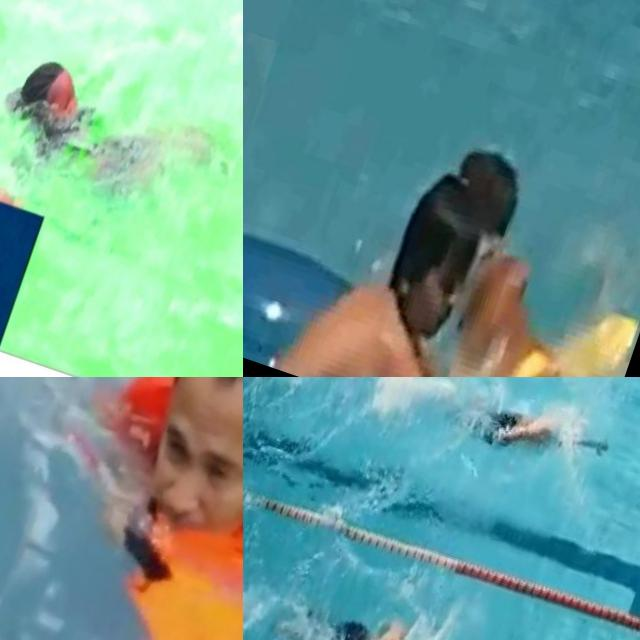drowning: (0, 14, 189, 232)
swimming: (290, 108, 640, 377), (12, 377, 243, 640), (390, 377, 619, 497), (243, 558, 472, 640)
